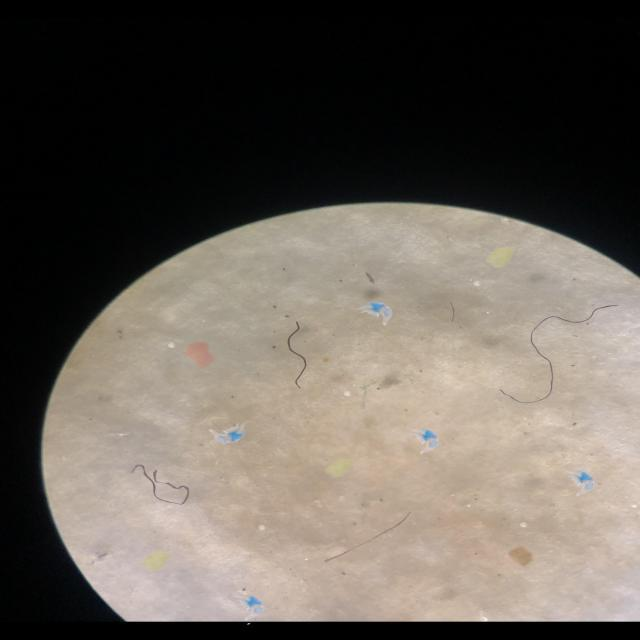fiber: (503, 302, 623, 410), (324, 509, 415, 561), (122, 460, 194, 510), (284, 318, 318, 394)
film: (210, 419, 255, 455), (400, 424, 454, 453), (226, 587, 268, 620), (559, 464, 597, 500), (358, 300, 400, 328)
fragment: (476, 240, 520, 272), (184, 340, 225, 370), (136, 549, 180, 575), (322, 453, 354, 480), (498, 543, 539, 564)
pallet: (463, 275, 487, 290), (514, 518, 533, 534), (163, 339, 181, 354), (338, 388, 356, 401), (254, 523, 270, 535)
